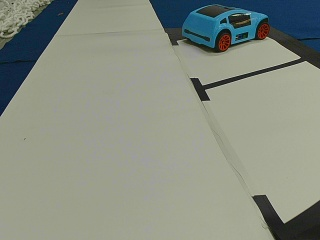car: (182, 5, 269, 52)
